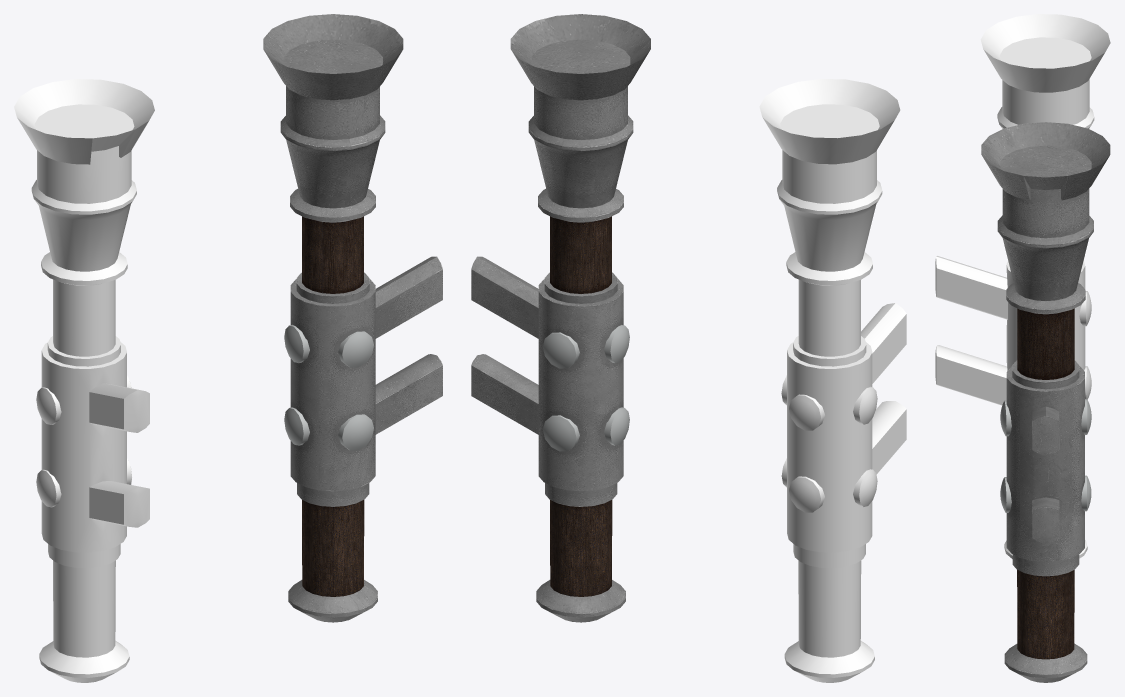
Rendered from Wall_Torch_Resize_Embedded.fbx.
The picture shows the model from 3 angles, left to right: view 1: azimuth 30°, elevation 25°; view 2: azimuth 150°, elevation 25°; view 3: azimuth 270°, elevation 25°; orthographic projection. The views are drawn at different scales.
Visible parts, largest first — view 1: Torch, WallTorchEmbedded; view 2: Torch, WallTorchEmbedded; view 3: Torch, WallTorchEmbedded.
Boxes of the visible parts, x1,y1,x2,y2 form: Torch: (263,14,442,622); WallTorchEmbedded: (14,79,154,682); Torch: (471,14,650,622); WallTorchEmbedded: (759,79,906,682); Torch: (981,122,1110,682); WallTorchEmbedded: (935,14,1110,558).
Size of the model in its own units: 20 by 26.21 by 7.95.
2 materials, 1 textured.
